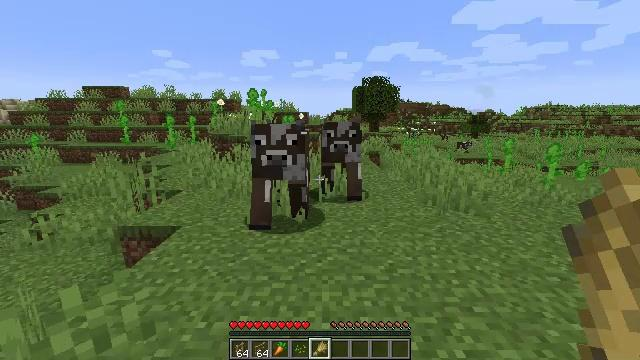cow: (251, 124, 310, 228), (320, 122, 362, 200), (457, 141, 471, 154)
